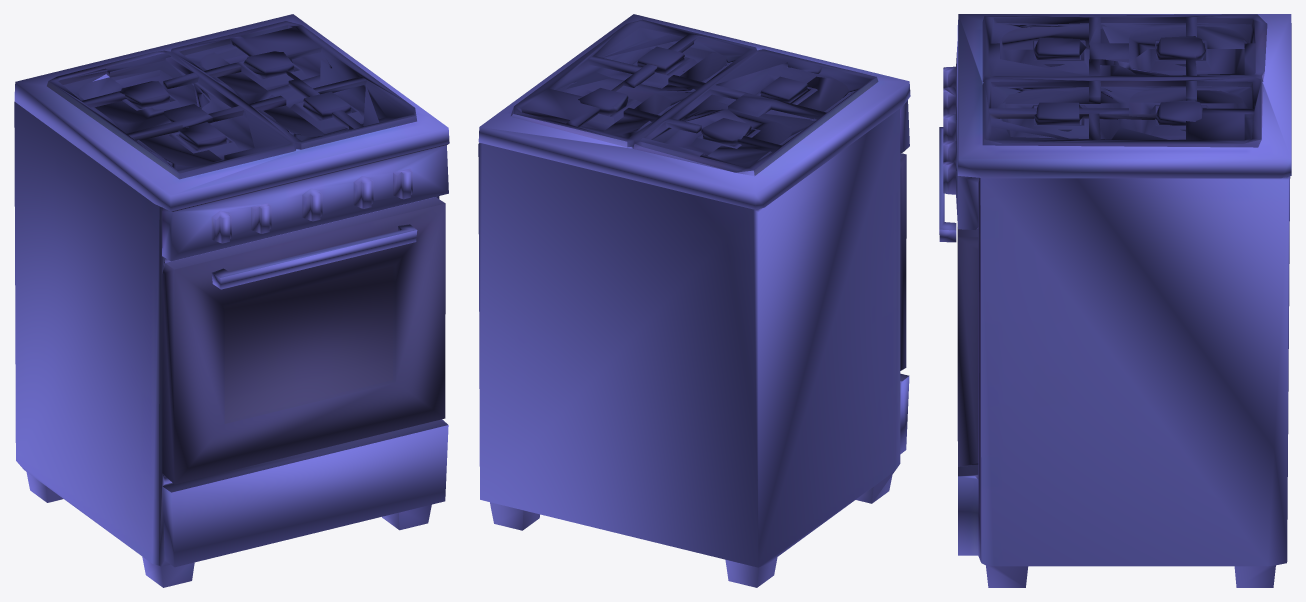
Rendered from model.progressive.glb.
3 views of the same model, side by side, from view 1: azimuth 30°, elevation 25°; view 2: azimuth 150°, elevation 25°; view 3: azimuth 270°, elevation 25° (orthographic). The views are drawn at different scales.
Parts seen in each view (by area): view 1: mesh_input; view 2: mesh_input; view 3: mesh_input.
Boxes of the visible parts, <box> form: mesh_input: <box>14,14,449,587</box>; mesh_input: <box>478,14,910,587</box>; mesh_input: <box>939,14,1291,587</box>.
Bounding box in the file's own units: 1.37 × 1.88 × 1.36.
Materials: 1 (1 with a texture image).
